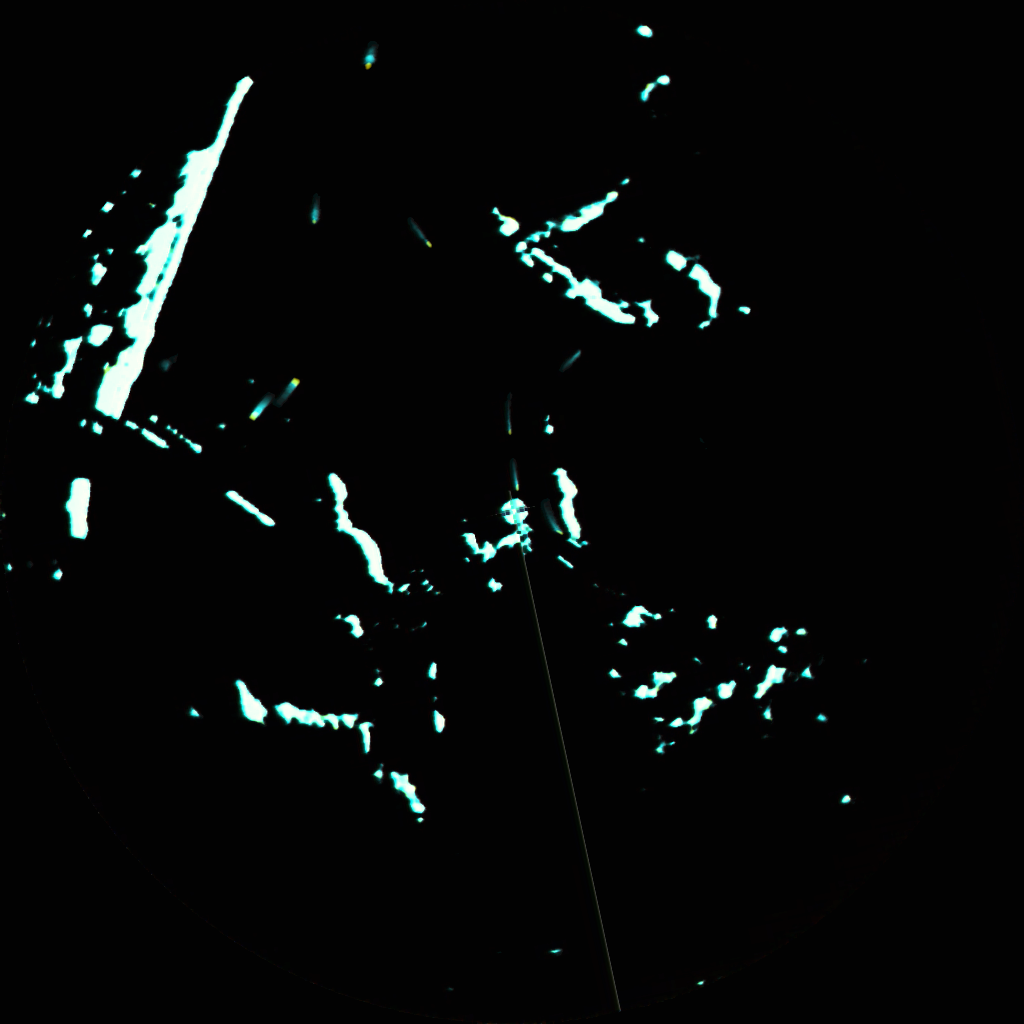B: (414, 227, 433, 250), (547, 512, 562, 537), (243, 403, 263, 419), (562, 352, 577, 373), (282, 380, 299, 397), (360, 53, 378, 67), (511, 466, 522, 488), (305, 206, 320, 222), (503, 409, 511, 432)
